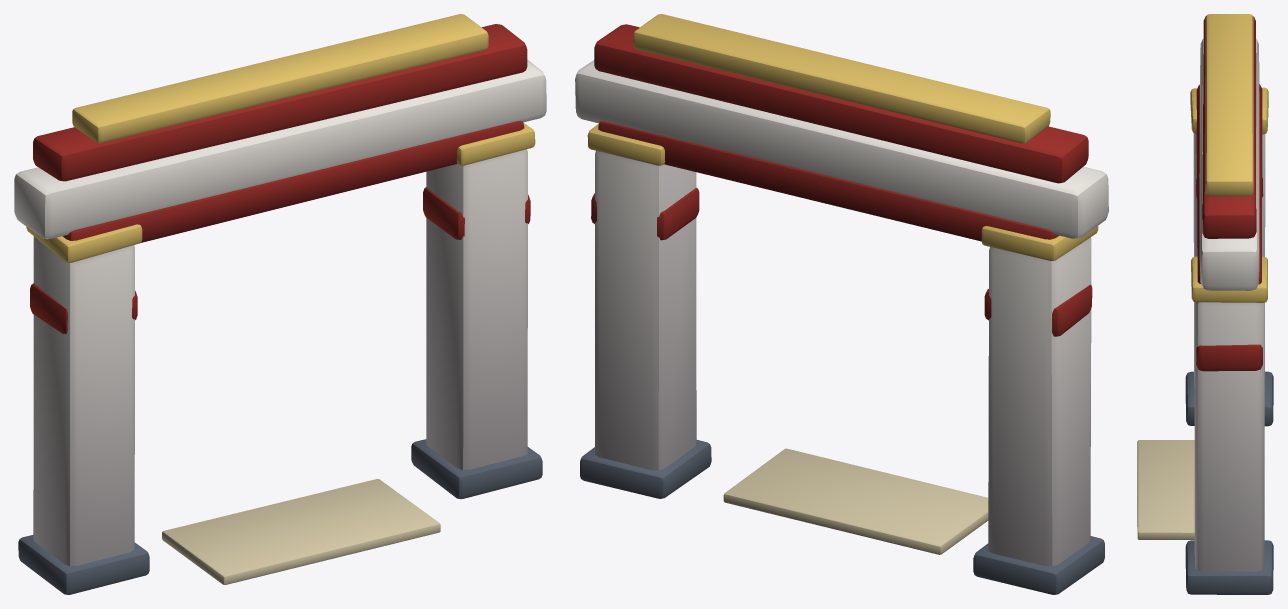
3 renders of one model, left to right at view 1: azimuth 30°, elevation 25°; view 2: azimuth 150°, elevation 25°; view 3: azimuth 270°, elevation 25°, orthographic. The views are drawn at different scales.
Visible parts, largest first — view 1: gate_5c5d612e; view 2: gate_5c5d612e; view 3: gate_5c5d612e.
Part boxes in pixels (box(x1,y1,x2,y2)): gate_5c5d612e: box(14, 14, 546, 594); gate_5c5d612e: box(575, 14, 1108, 594); gate_5c5d612e: box(1137, 14, 1273, 594).
Bounding box in the file's own units: 5.58 × 4.77 × 1.48.
